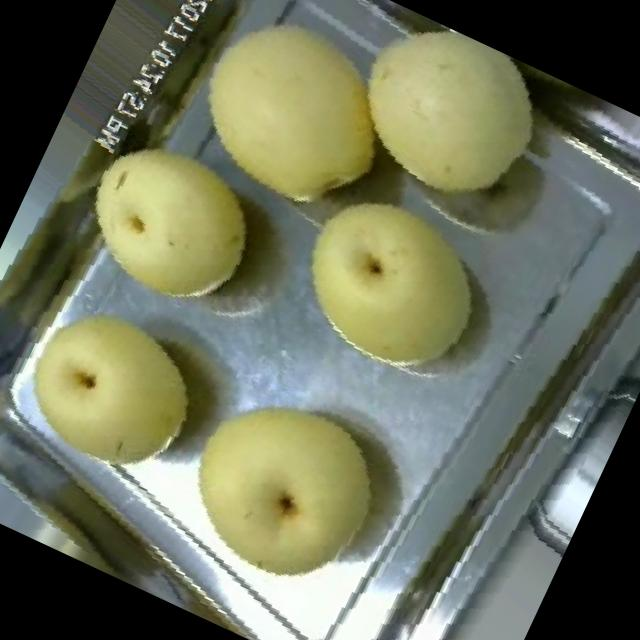Fruit: (132, 342, 428, 634), (251, 147, 528, 412), (151, 0, 439, 253), (306, 0, 579, 243), (0, 263, 241, 521), (44, 99, 297, 342)
